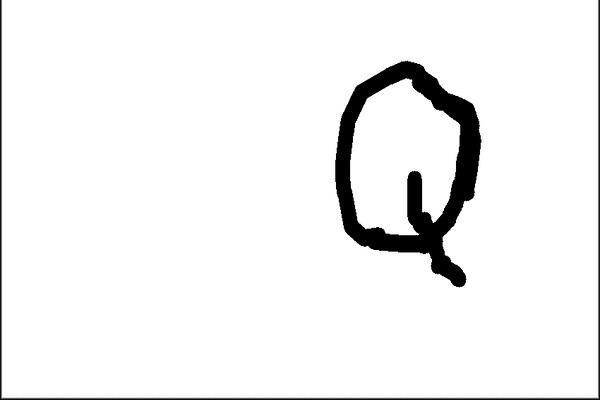Q: (317, 43, 494, 299)
